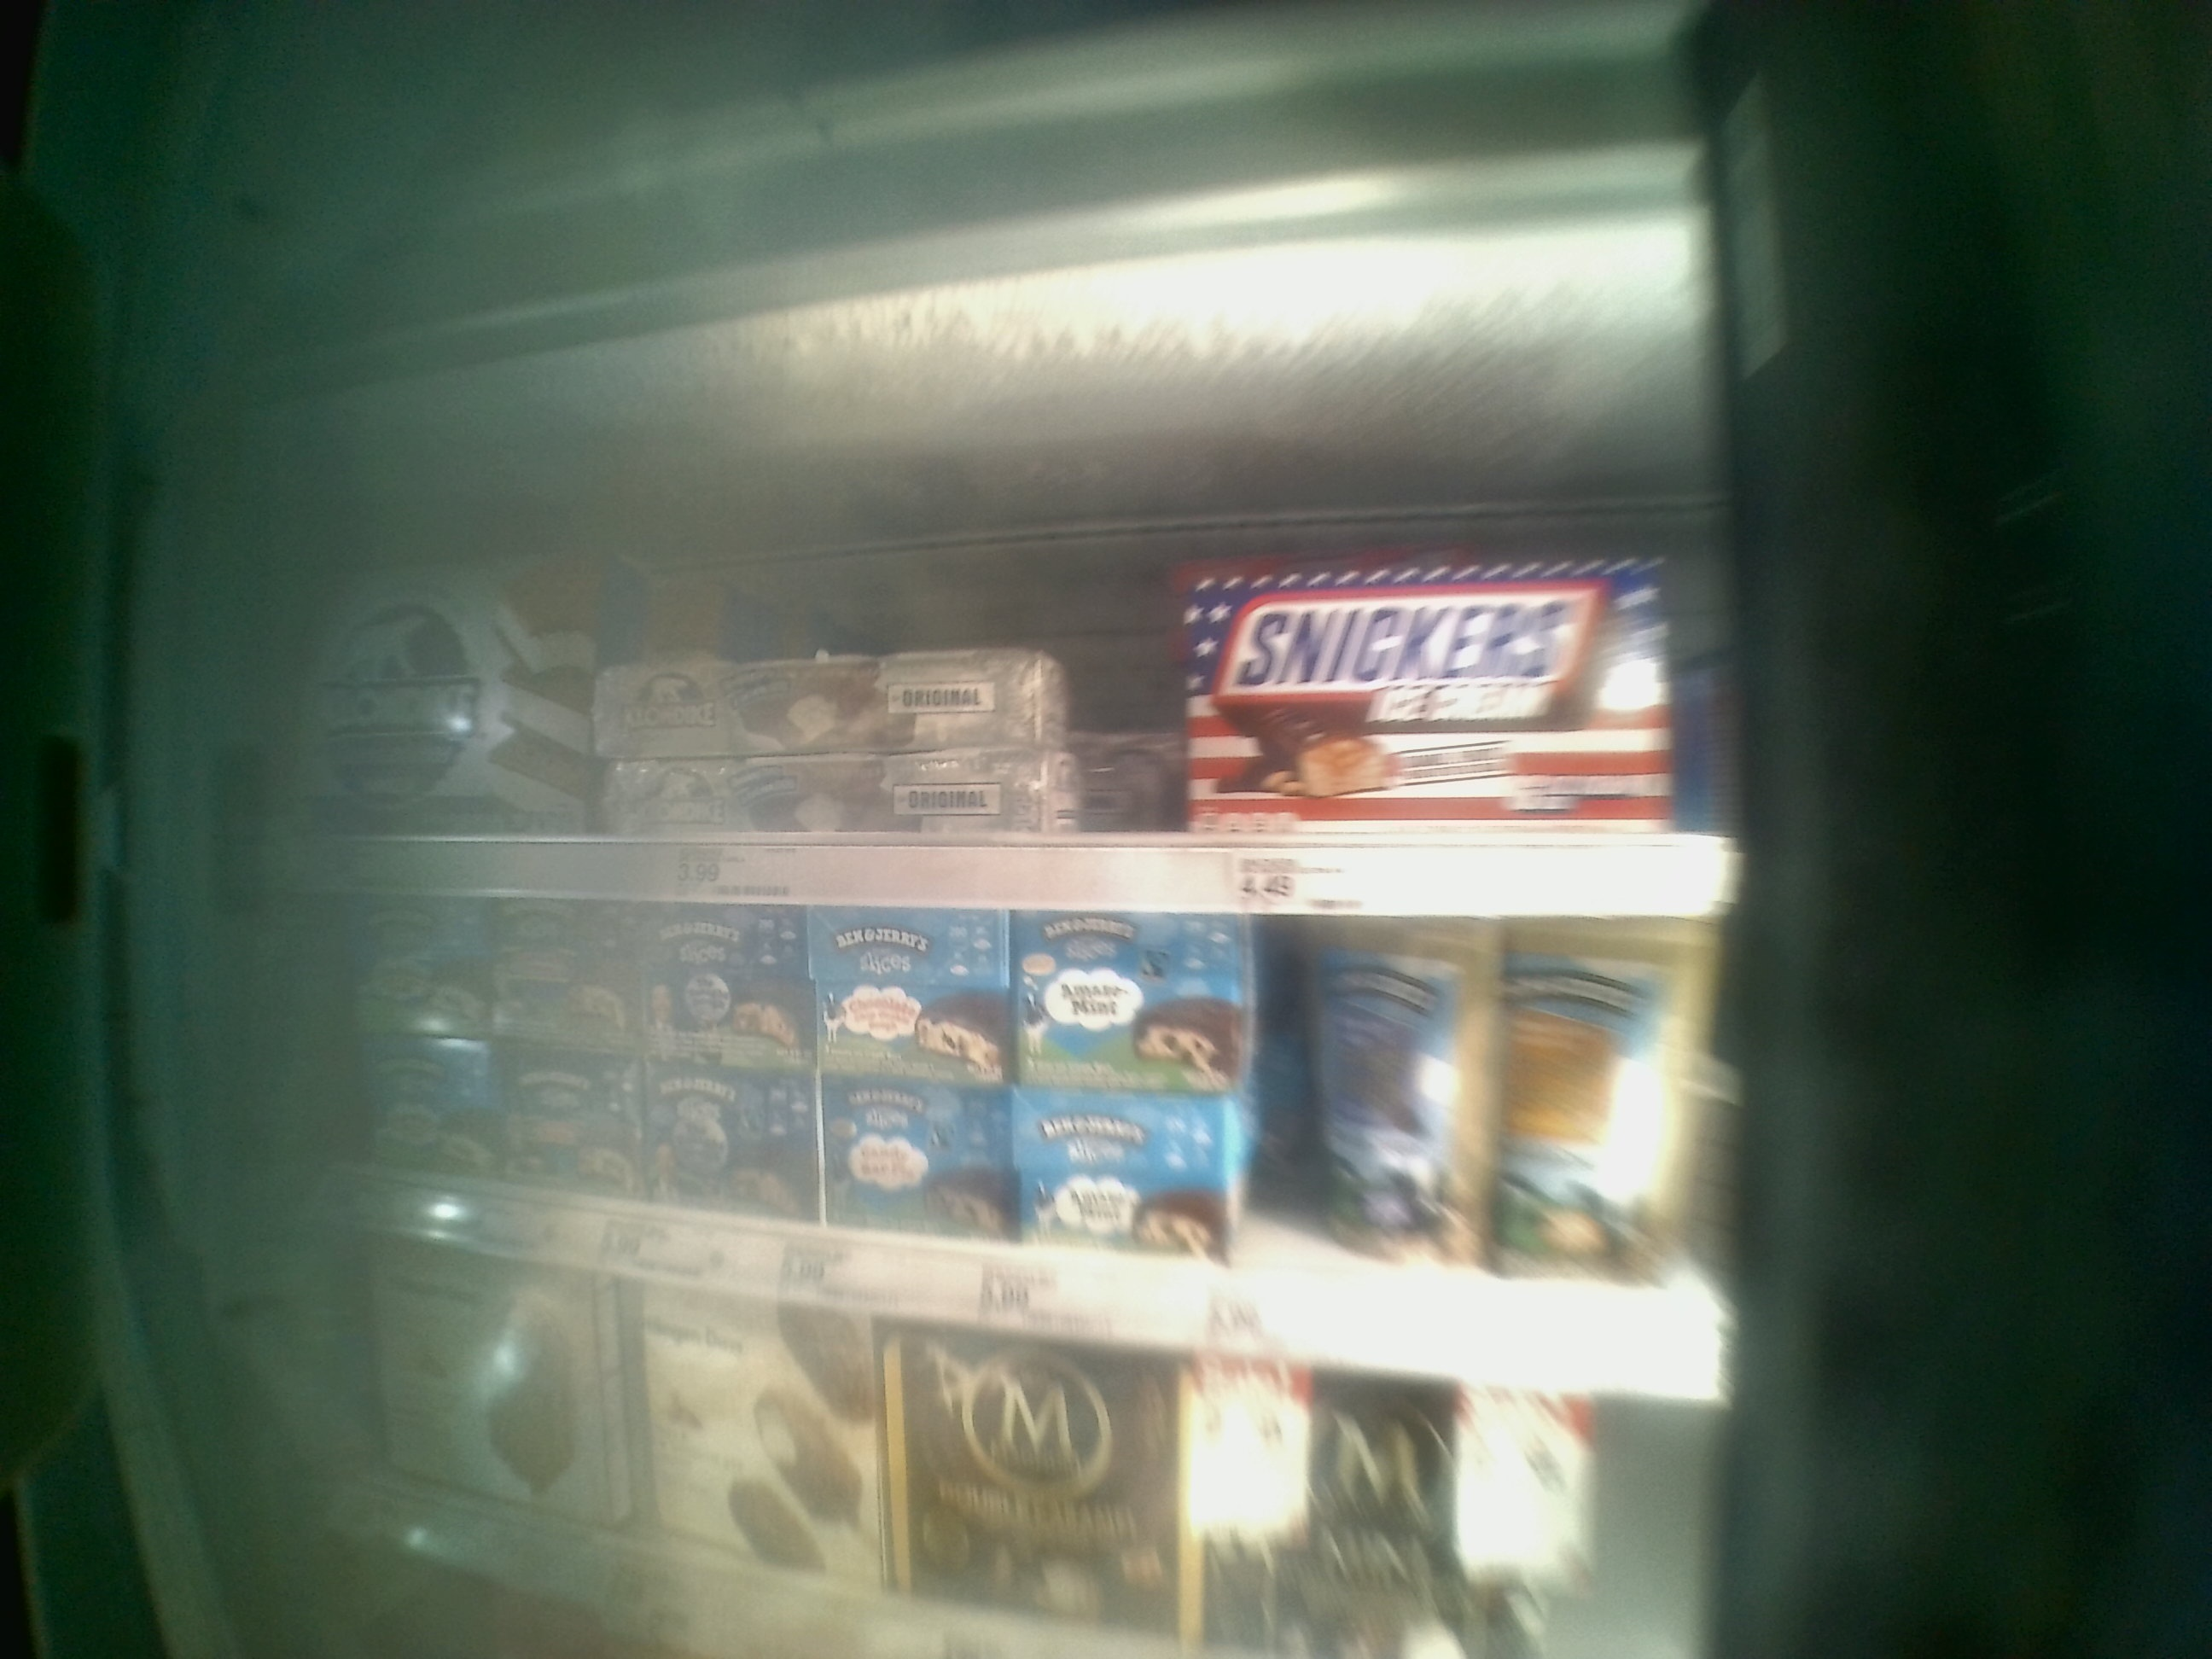ice-cream-shelf: (273, 390, 1754, 913)
